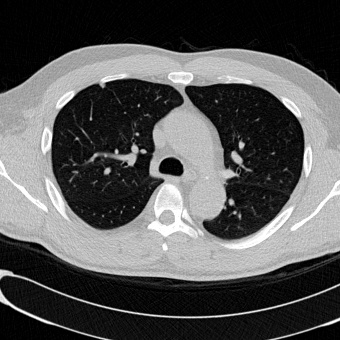PN: (99, 82, 105, 88)
